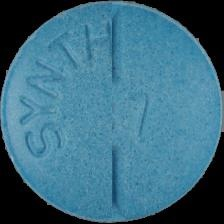0074-3727: (0, 0, 224, 224)
